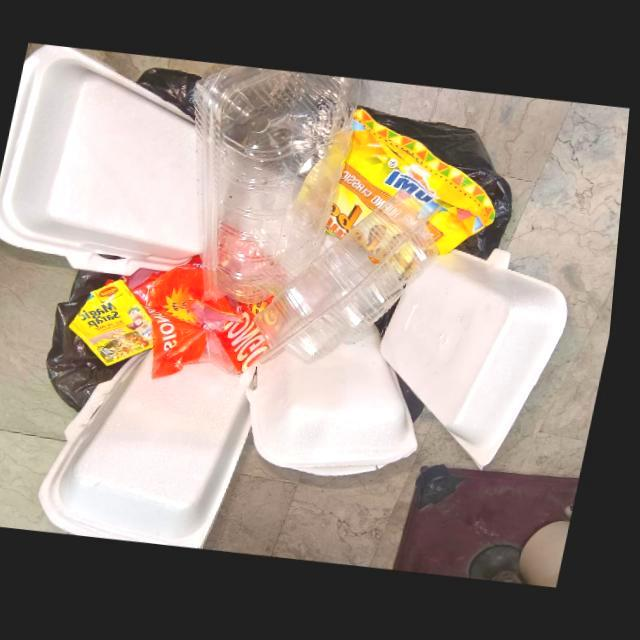food_wrapper: (331, 109, 499, 256), (131, 255, 278, 380)
plastic_container: (195, 65, 364, 305), (260, 191, 449, 366)
plastic_sachet: (74, 279, 160, 367)
